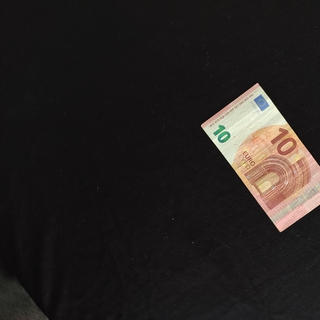10EUROFront: (199, 82, 320, 233)
